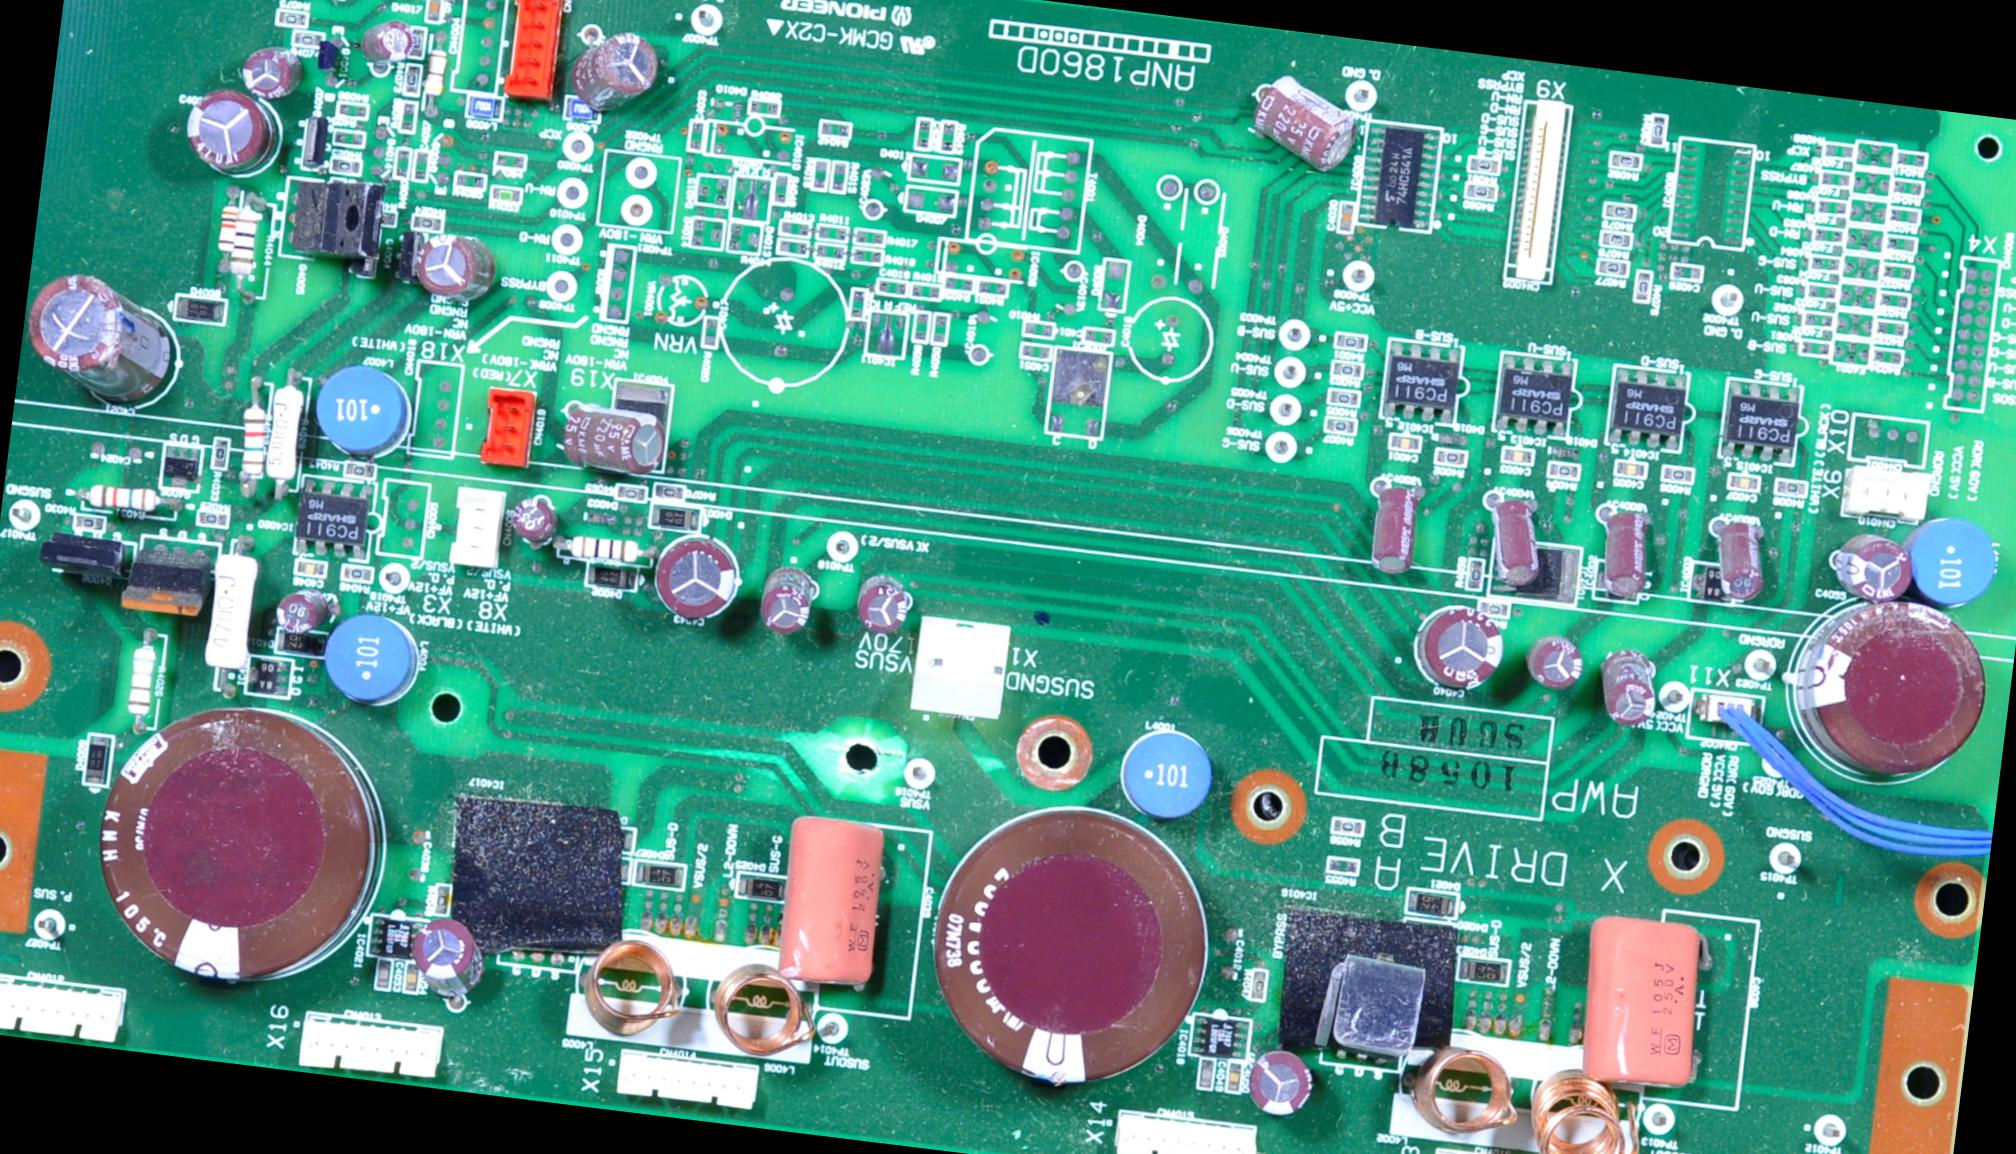Capacitor Jumper: (922, 797, 1223, 1100), (91, 700, 375, 991), (1800, 594, 1994, 785), (774, 816, 900, 979), (22, 272, 176, 399), (1243, 73, 1364, 197), (179, 90, 284, 180), (649, 531, 746, 623), (1421, 604, 1511, 697), (570, 33, 672, 115), (559, 399, 666, 475), (1127, 292, 1213, 382), (1592, 647, 1680, 730), (408, 224, 498, 305), (1590, 497, 1662, 597), (1367, 479, 1433, 580), (1486, 493, 1547, 589), (1833, 532, 1916, 600), (413, 917, 486, 989), (759, 562, 827, 639), (1710, 514, 1768, 600), (1248, 1049, 1320, 1118), (852, 561, 911, 634), (242, 42, 307, 101), (1523, 634, 1592, 690), (273, 583, 335, 639), (505, 490, 562, 546), (360, 17, 411, 65), (1218, 925, 1239, 978), (1196, 1058, 1216, 1092), (1225, 1061, 1245, 1093), (294, 560, 325, 579), (374, 959, 392, 991), (685, 119, 703, 151), (876, 278, 908, 296), (1083, 327, 1115, 345), (1338, 202, 1356, 233), (1502, 446, 1533, 464), (1020, 344, 1052, 360), (403, 961, 420, 992), (411, 150, 428, 180), (492, 186, 521, 202), (454, 172, 485, 187), (1614, 461, 1645, 477), (914, 121, 930, 148), (1727, 475, 1757, 489), (1392, 436, 1419, 452), (1673, 265, 1700, 278)
Connector: (1501, 98, 1573, 284), (296, 1011, 443, 1081), (0, 973, 127, 1045), (616, 1049, 762, 1110), (503, 0, 568, 100), (1112, 1110, 1261, 1153), (450, 0, 510, 96), (407, 360, 464, 456), (1843, 465, 1927, 524), (479, 387, 536, 465), (1688, 689, 1764, 747), (450, 485, 503, 567)
IC: (435, 794, 631, 970), (1270, 906, 1465, 1071), (1667, 137, 1756, 251), (1356, 121, 1441, 233), (1491, 350, 1577, 441), (1605, 363, 1691, 452), (1718, 377, 1801, 467), (292, 477, 371, 560), (1380, 341, 1461, 421), (1188, 1011, 1250, 1061), (367, 914, 418, 959), (864, 310, 907, 356), (246, 654, 291, 697), (616, 382, 672, 413), (1689, 562, 1729, 601)
Resistor Jumper: (202, 536, 262, 672), (212, 188, 270, 301), (263, 380, 305, 483), (125, 628, 165, 727), (234, 377, 273, 479), (76, 481, 180, 517), (554, 532, 649, 564), (420, 29, 451, 112), (1465, 155, 1501, 176), (748, 96, 780, 116), (699, 316, 720, 348), (331, 127, 364, 147), (908, 281, 942, 301), (209, 436, 228, 470), (71, 514, 104, 533), (403, 61, 421, 96), (328, 155, 360, 175), (341, 562, 372, 582), (850, 247, 883, 265), (276, 8, 307, 26), (407, 26, 425, 58), (1464, 183, 1495, 201), (816, 224, 847, 242), (654, 482, 685, 500), (615, 482, 647, 500), (1326, 858, 1358, 876), (292, 30, 323, 48), (771, 175, 789, 205), (780, 219, 810, 237), (399, 101, 415, 133), (853, 229, 885, 245), (1465, 558, 1483, 587), (813, 158, 829, 188), (1023, 320, 1054, 337), (343, 461, 374, 478), (1332, 817, 1362, 834), (422, 0, 443, 24), (1884, 237, 1914, 254), (336, 103, 366, 119), (1598, 259, 1627, 276), (393, 150, 410, 179), (816, 244, 845, 260), (978, 280, 1007, 296), (930, 313, 947, 342), (1775, 479, 1804, 496), (1819, 170, 1850, 186), (1250, 968, 1266, 999), (1662, 465, 1692, 481), (1548, 463, 1578, 478), (197, 511, 227, 526), (1634, 272, 1650, 299), (1878, 292, 1907, 308), (943, 276, 972, 291), (1332, 362, 1361, 377), (1336, 332, 1362, 349), (1605, 204, 1632, 219), (940, 121, 954, 151), (1602, 233, 1630, 248), (1873, 349, 1904, 363), (914, 310, 929, 338), (820, 121, 849, 134), (1875, 321, 1904, 335), (1896, 151, 1925, 165), (1612, 152, 1638, 168), (1815, 227, 1843, 241), (1883, 265, 1911, 278), (831, 162, 845, 190), (1825, 143, 1853, 157), (1650, 116, 1664, 144), (1890, 209, 1916, 223), (1808, 284, 1835, 298), (1331, 391, 1357, 405), (1893, 180, 1920, 193), (1818, 199, 1846, 212), (1812, 256, 1837, 270), (1804, 313, 1830, 326), (1801, 342, 1829, 353), (1325, 418, 1353, 429), (1436, 452, 1464, 463)
Transistor: (1565, 903, 1727, 1094), (285, 176, 384, 266), (161, 442, 204, 490)
